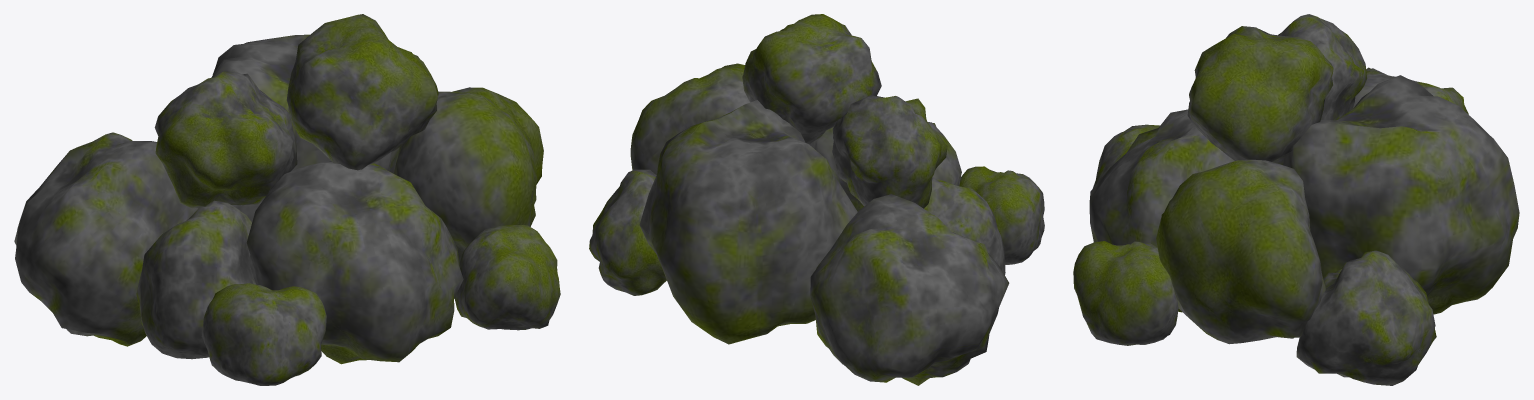
File: boulder_L2.glb
3 renders of one model, left to right at view 1: azimuth 30°, elevation 25°; view 2: azimuth 150°, elevation 25°; view 3: azimuth 270°, elevation 25°, orthographic. The views are drawn at different scales.
Parts seen in each view (by area): view 1: BoulderOutcropMossyLarge; view 2: BoulderOutcropMossyLarge; view 3: BoulderOutcropMossyLarge.
Boxes of the visible parts, x1,y1,x2,y2 form: BoulderOutcropMossyLarge: [14, 14, 560, 385]; BoulderOutcropMossyLarge: [589, 14, 1044, 385]; BoulderOutcropMossyLarge: [1073, 14, 1519, 385].
Size of the model in its own units: 7.26 by 4.7 by 6.27.
Materials: 1 (1 with a texture image).
